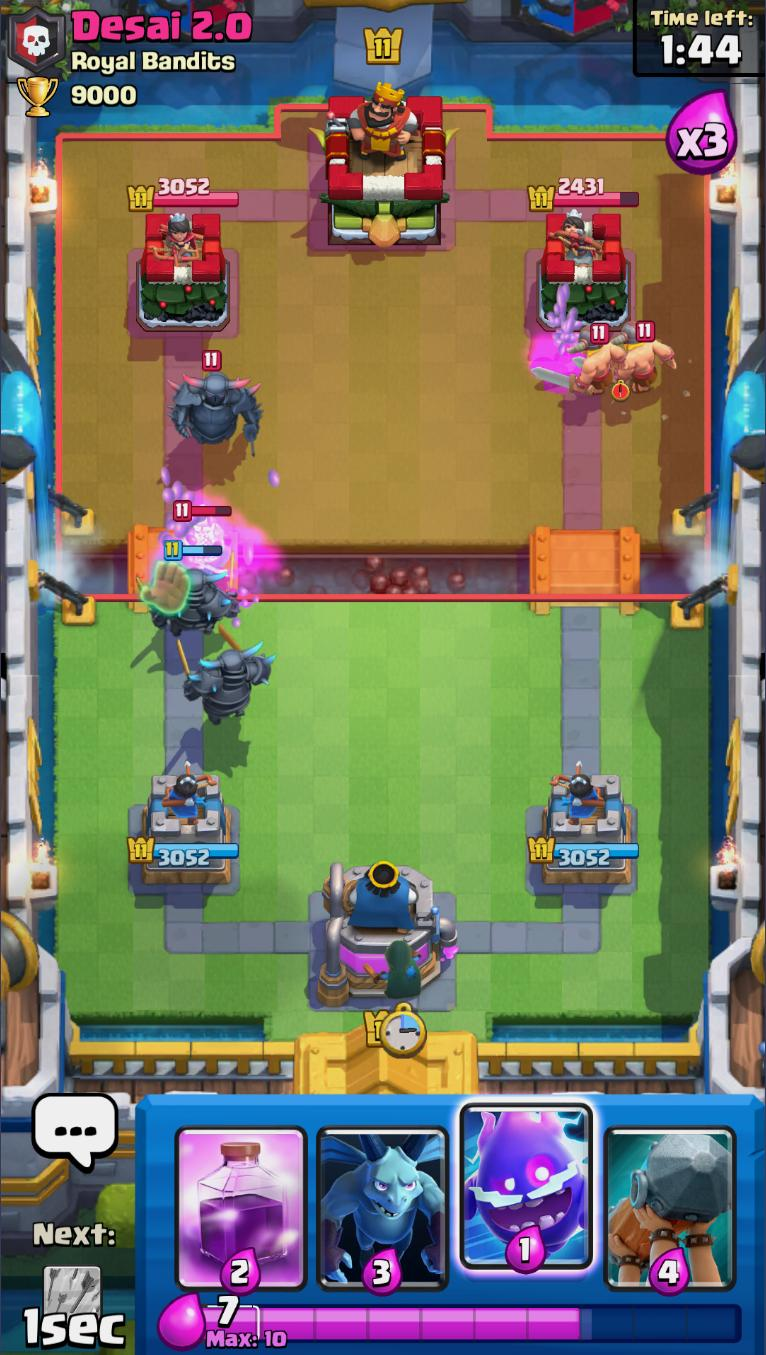ArrowNext: (40, 1264, 105, 1344)
BattleRamDeck: (598, 1094, 743, 1296)
ElectroSpiritDeck: (456, 1094, 598, 1295)
EliteBarbarian: (532, 323, 626, 398), (609, 320, 679, 396)
Elixir: (203, 1295, 744, 1350)
EnemyTower: (533, 208, 631, 331), (133, 210, 229, 335)
KingTower: (308, 82, 456, 248)
MinionsDeck: (311, 1095, 455, 1296)
Monk: (173, 498, 234, 570)
MyBandit: (366, 940, 422, 1000)
MyKingTower: (319, 856, 458, 1009)
MyPekka: (137, 540, 241, 640), (176, 624, 275, 727)
MyPrincessTower: (524, 771, 639, 887), (125, 769, 238, 887)
MyPrincessTowerHP: (125, 836, 238, 868), (525, 835, 637, 867)
Pekka: (168, 349, 262, 460)
PrincessTower: (546, 213, 603, 264), (144, 214, 200, 264)
RageDeck: (167, 1095, 310, 1296)
TowerPrincessHP: (126, 178, 239, 213), (526, 178, 639, 212)
